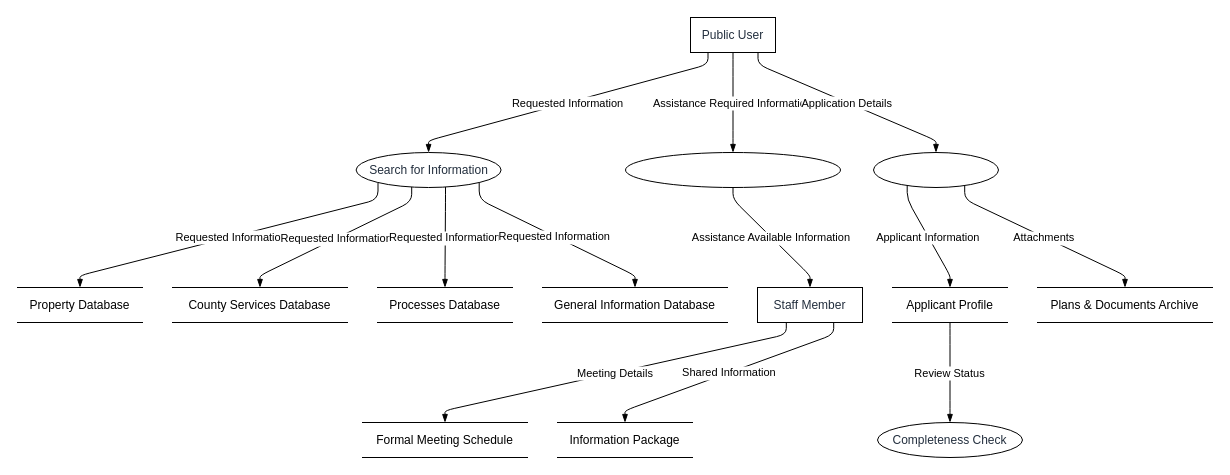
This 1230x475 diagram has some shape labels left out. Here are the shapes that lost their labels. From the top down, the centre of each, then its label:
the point at 732,170: Pre-Application Assistance Request
the point at 935,170: Submission Form
